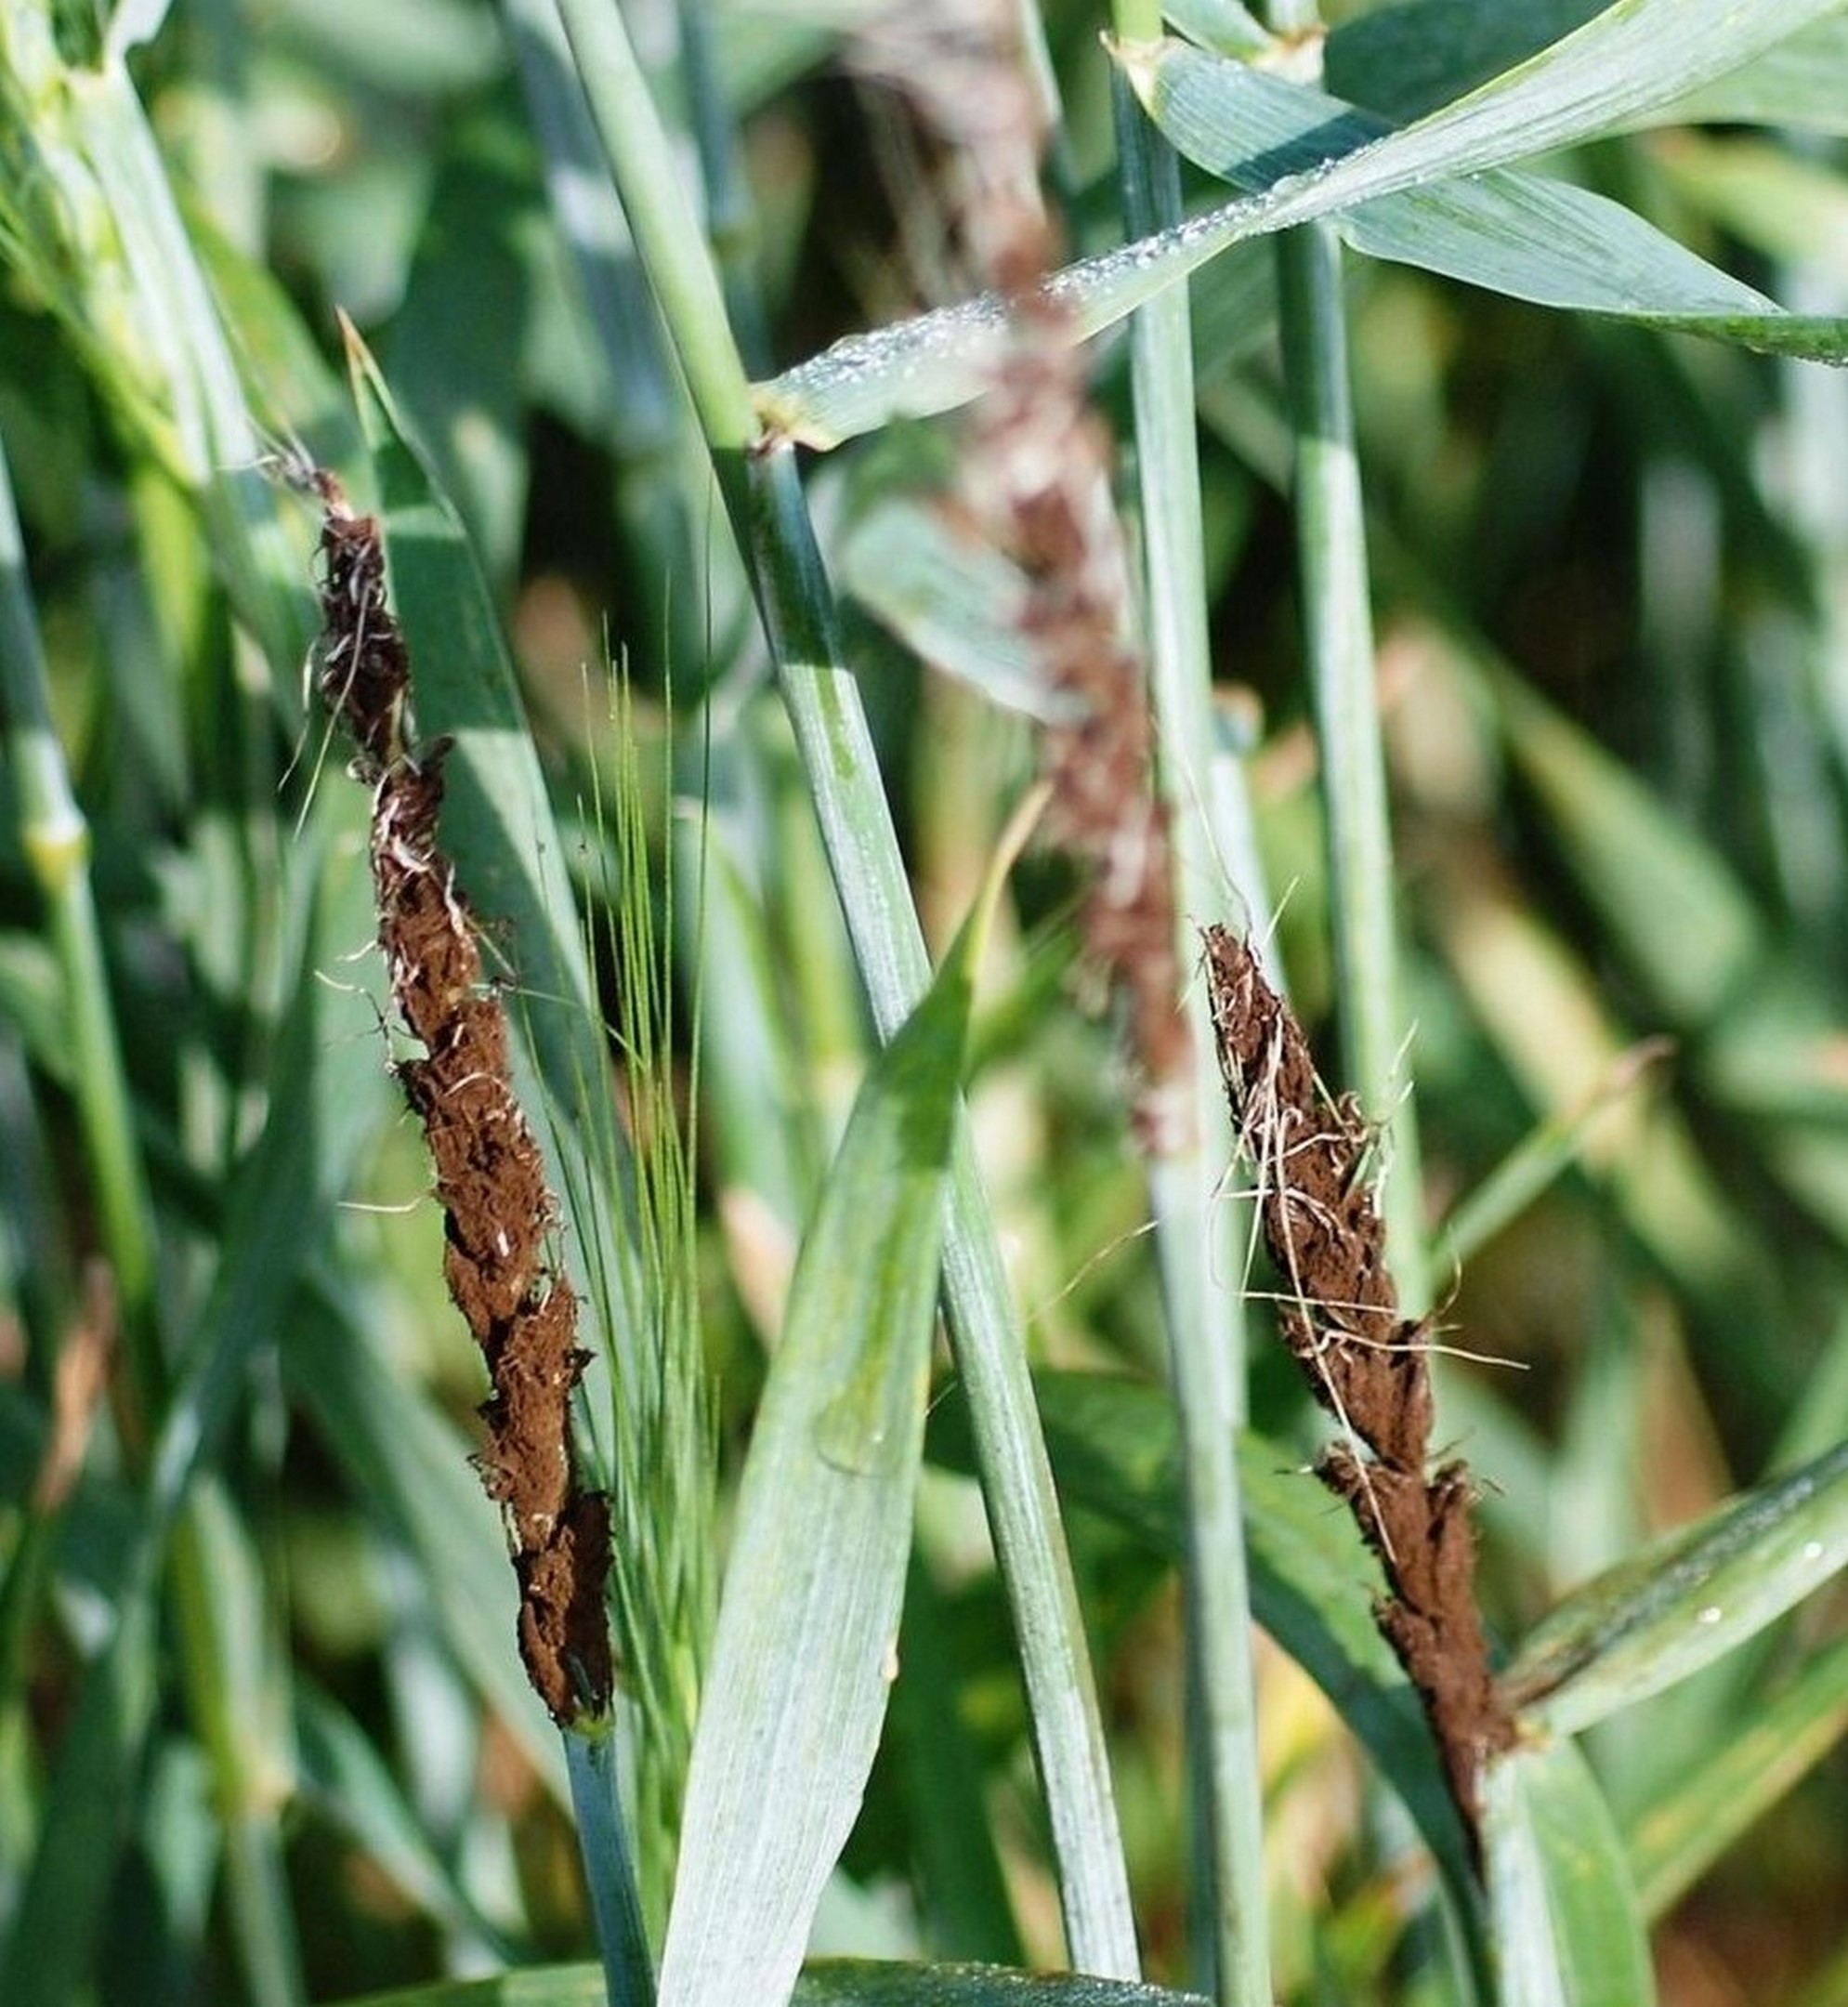Wheat Loose Smut: (276, 474, 645, 1743), (1173, 913, 1535, 1811)
